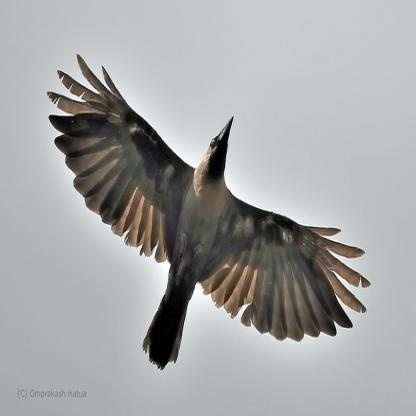Burung: (47, 52, 370, 370)
